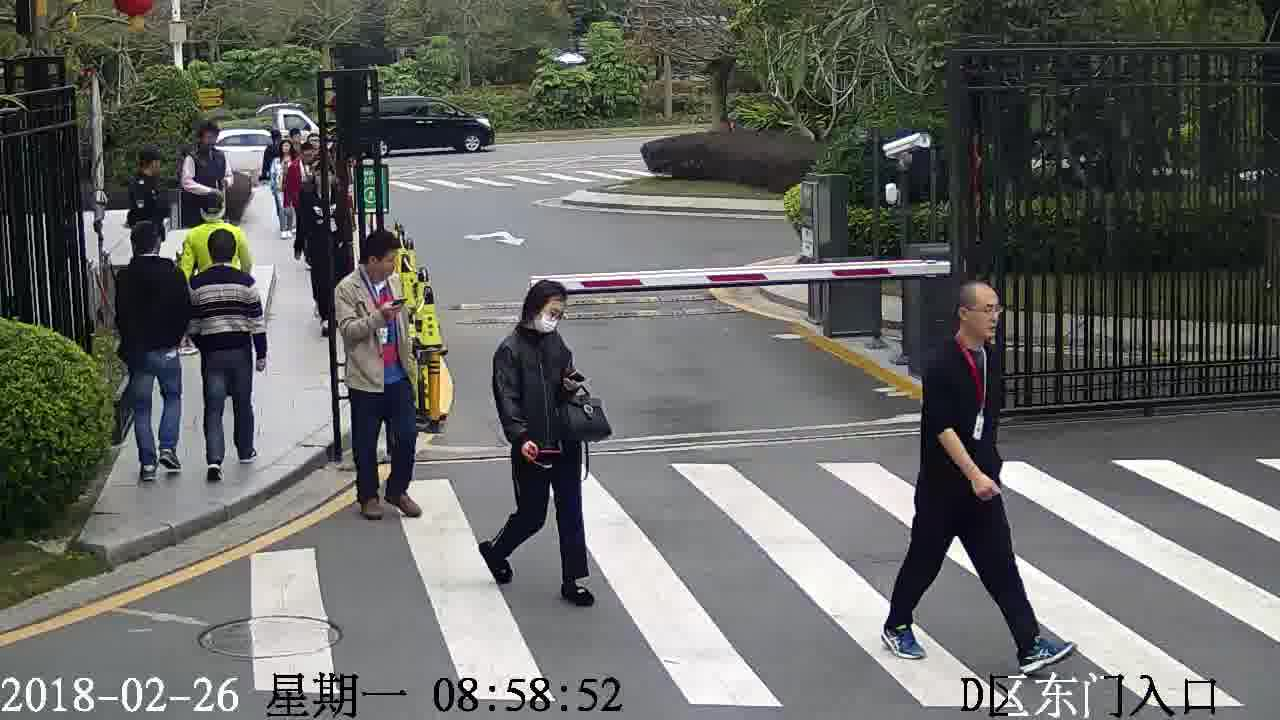face: (527, 286, 567, 341), (961, 292, 1006, 337)
mask: (531, 308, 560, 336)
person: (922, 281, 1004, 393), (494, 280, 573, 363), (337, 228, 407, 309), (116, 218, 185, 287), (193, 227, 258, 292), (182, 188, 247, 245), (183, 117, 230, 168), (130, 143, 166, 196), (287, 141, 319, 175), (271, 139, 299, 170)
